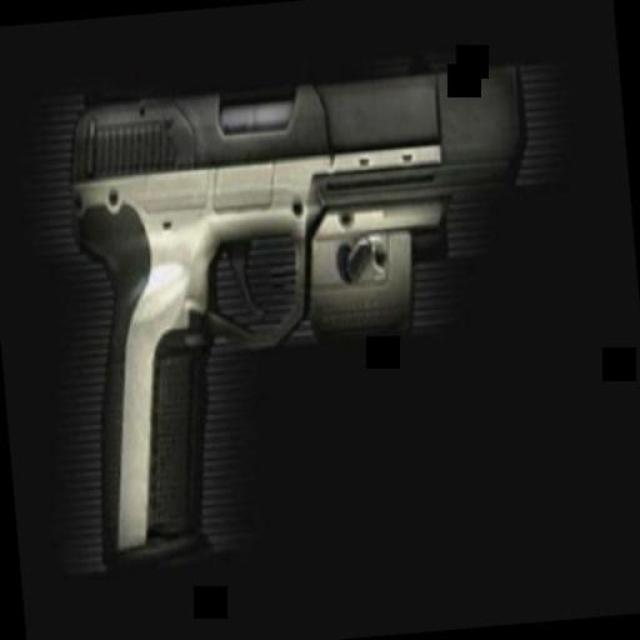gun: (53, 37, 565, 585)
